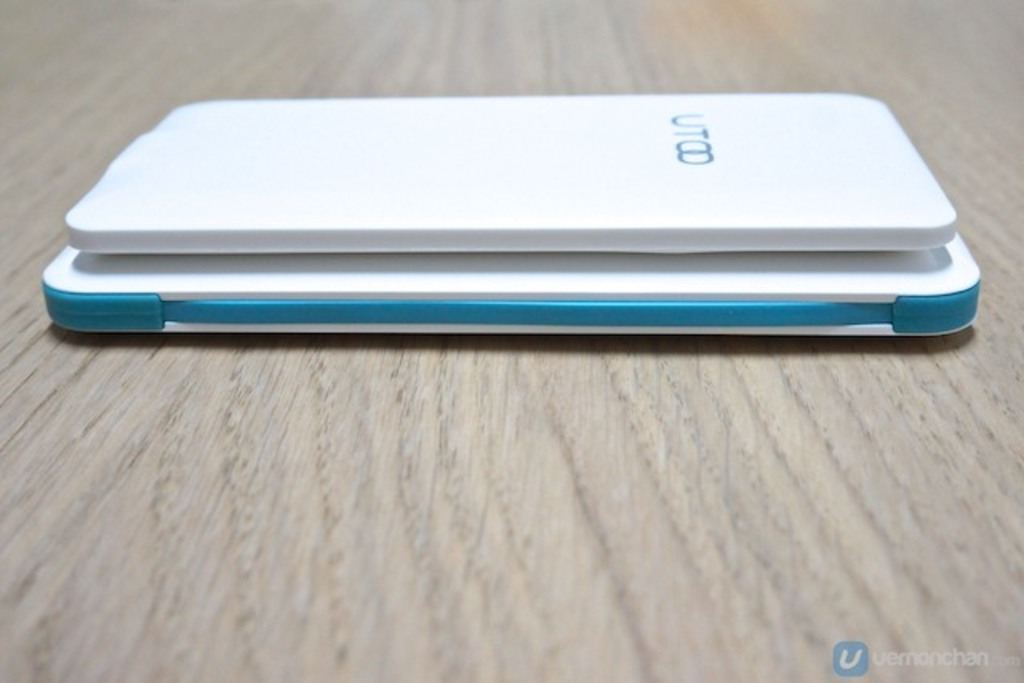Mobile-phone: (34, 91, 984, 336), (64, 94, 953, 246)
